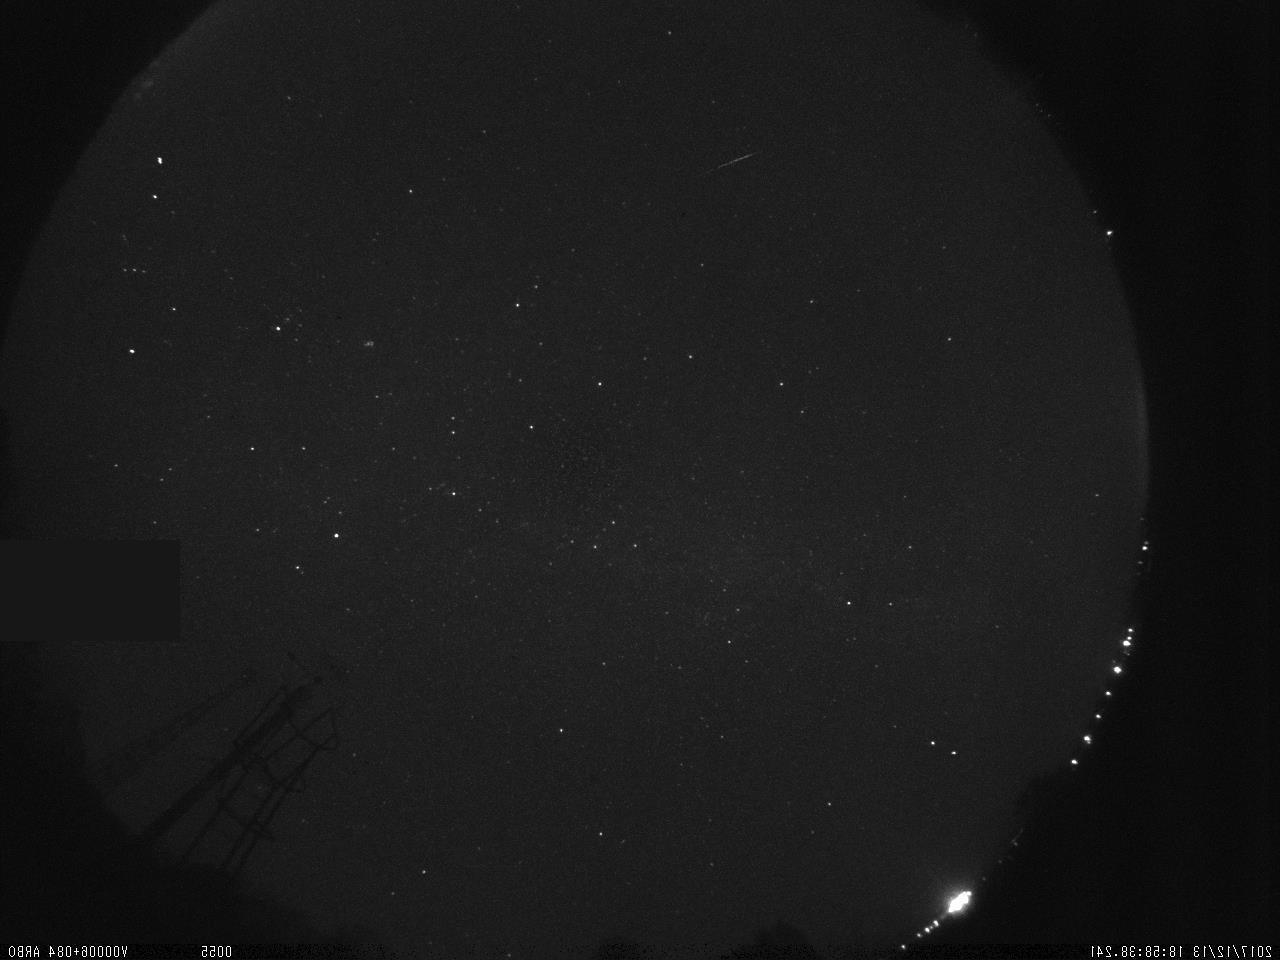meteor: (695, 140, 772, 182)
